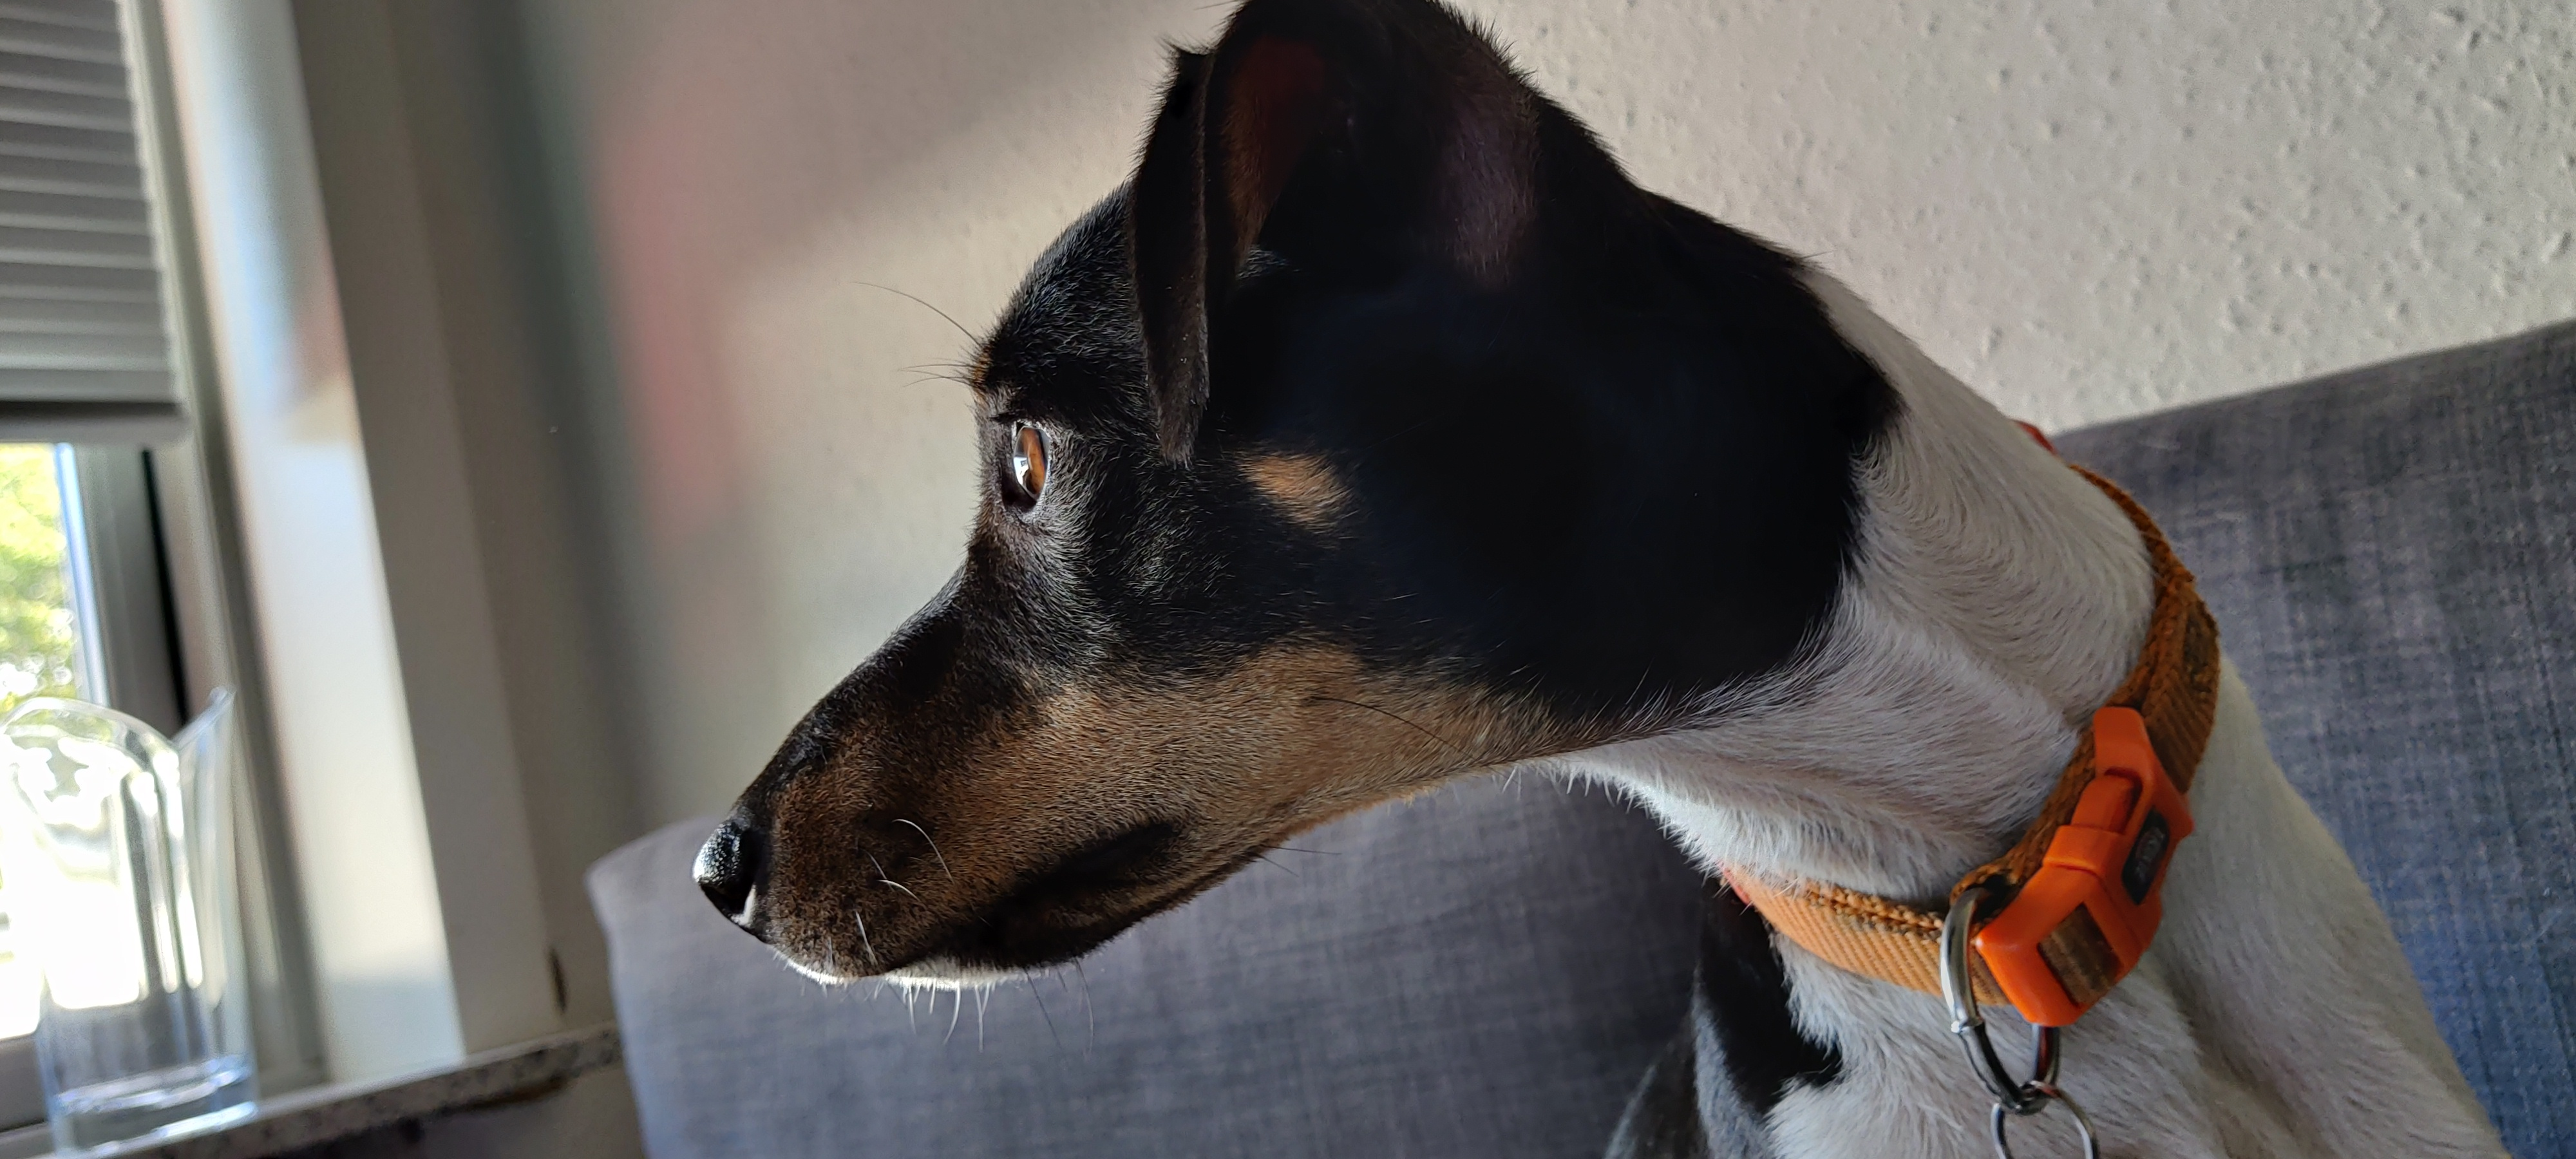Dog: (677, 0, 2522, 1159)
